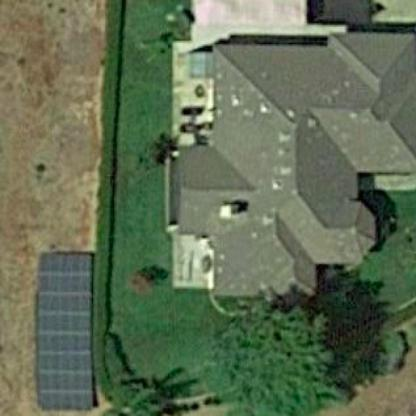solar_panel: (23, 240, 114, 412)
